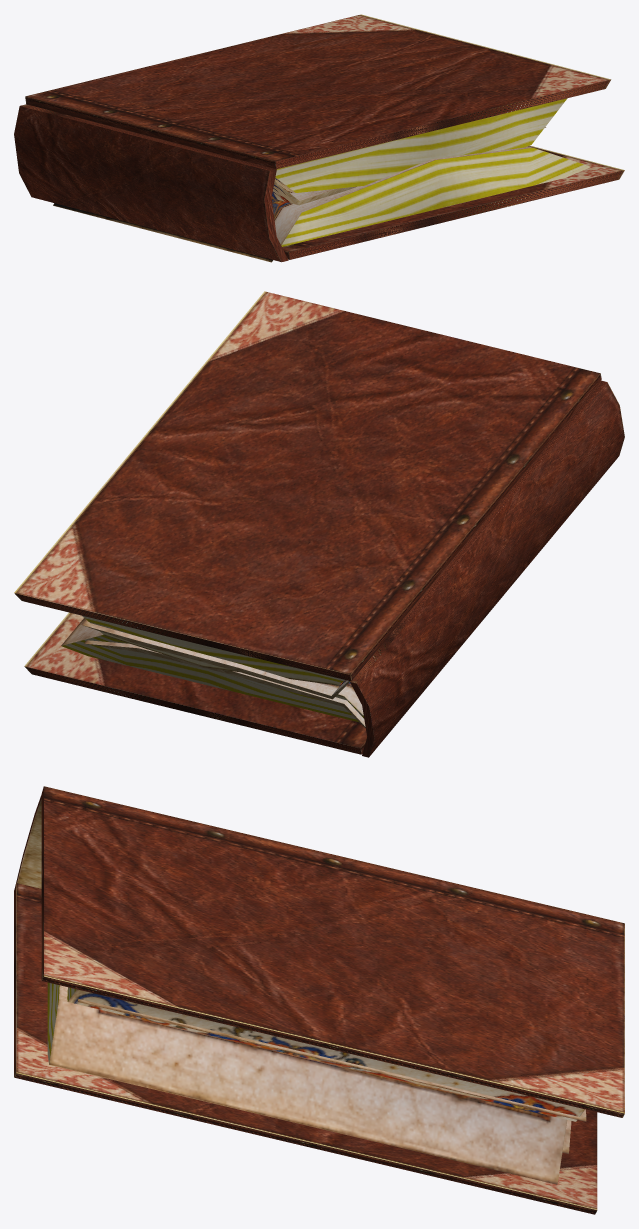
Rendered from mm9_deco_booktilt15.glb.
3 views of the same model, one above another, from view 1: azimuth 30°, elevation 25°; view 2: azimuth 150°, elevation 25°; view 3: azimuth 270°, elevation 25° (orthographic). The views are drawn at different scales.
Parts seen in each view (by area): view 1: Booktilt15; view 2: Booktilt15; view 3: Booktilt15.
Boxes of the visible parts, left/top/right/bottom form: Booktilt15: left=14, top=14, right=624, bottom=262; Booktilt15: left=14, top=291, right=624, bottom=757; Booktilt15: left=14, top=786, right=624, bottom=1214.
Size of the model in its own units: 0.3948 by 0.2228 by 0.5101.
1 material, 1 textured.
